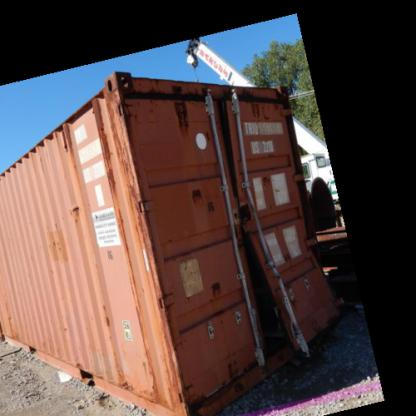Damage: (214, 100, 311, 364), (91, 92, 152, 213), (166, 77, 196, 137), (185, 178, 204, 210)
